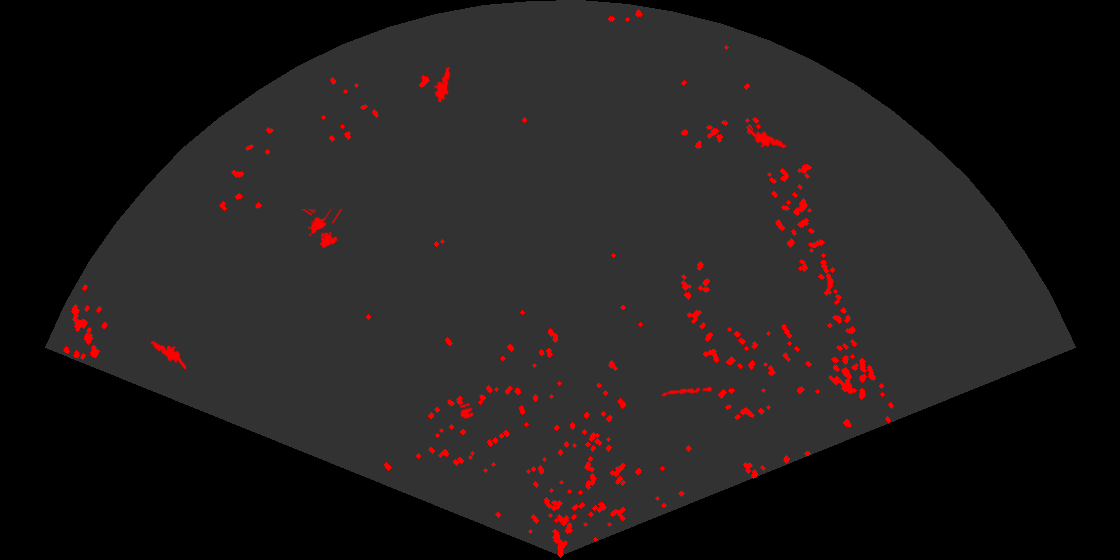ball: (458, 401, 475, 421)
cage: (300, 209, 344, 250)
chain: (660, 385, 713, 398)
frogman: (148, 335, 186, 369), (748, 125, 788, 151), (432, 66, 452, 102)
